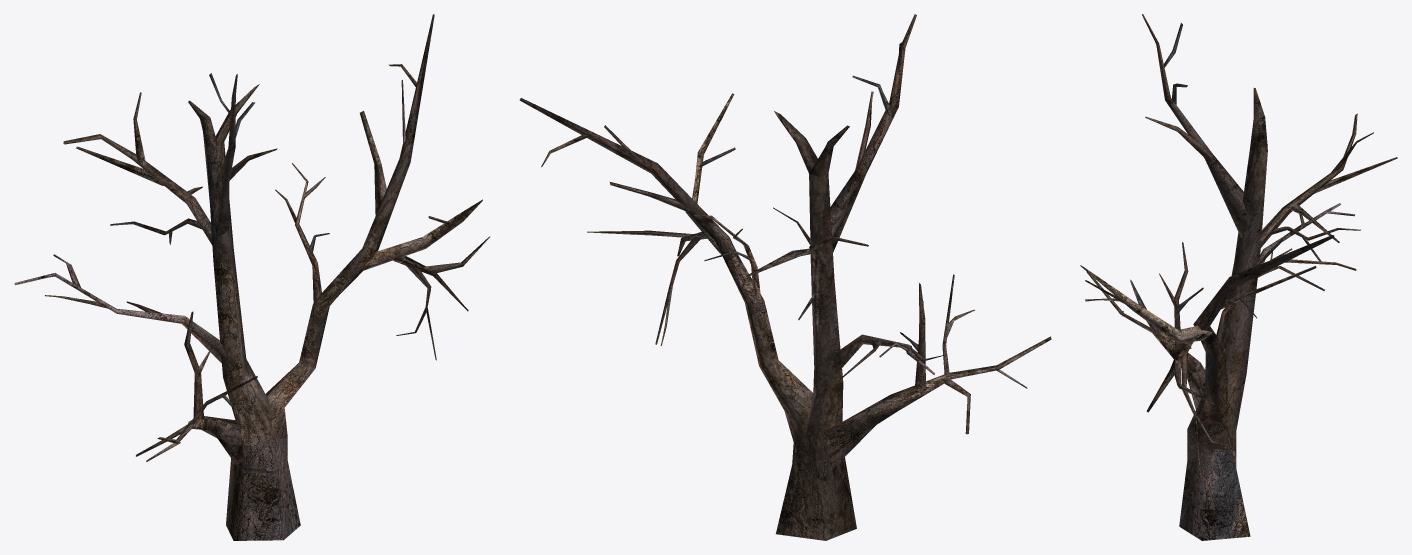
The model's file is Dry tree_D.fbx.
The picture shows the model from 3 angles, left to right: view 1: azimuth 30°, elevation 25°; view 2: azimuth 150°, elevation 25°; view 3: azimuth 270°, elevation 25°; orthographic projection. The views are drawn at different scales.
Visible parts, largest first — view 1: Dry tree_D; view 2: Dry tree_D; view 3: Dry tree_D.
Boxes of the visible parts, x1,y1,x2,y2 form: Dry tree_D: [14, 14, 490, 540]; Dry tree_D: [519, 14, 1051, 540]; Dry tree_D: [1080, 14, 1397, 540].
Size of the model in its own units: 689 by 785 by 468.
Materials: 1 (1 with a texture image).
